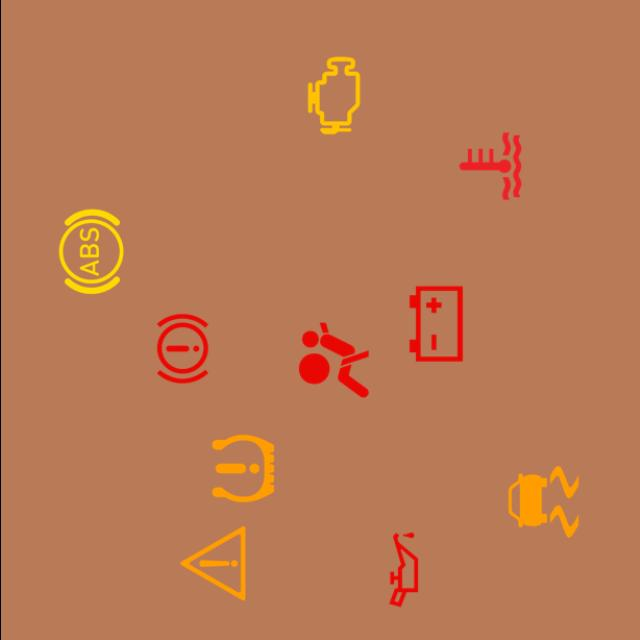Anti Lock Braking System: (44, 205, 136, 298)
Braking System Issue: (136, 302, 228, 395)
Charging System Issue: (388, 277, 482, 370)
Check Engine: (286, 49, 379, 142)
Electronic Stability Problem -ESP-: (496, 456, 589, 548)
Engine Overheating Warning Light: (443, 120, 536, 213)
Low Engine Oil Warning Light: (356, 523, 449, 616)
Low Tire Pressure Warning Light: (196, 422, 289, 515)
Master warning light: (165, 517, 258, 610)
SRS-Airbag: (286, 314, 379, 406)
